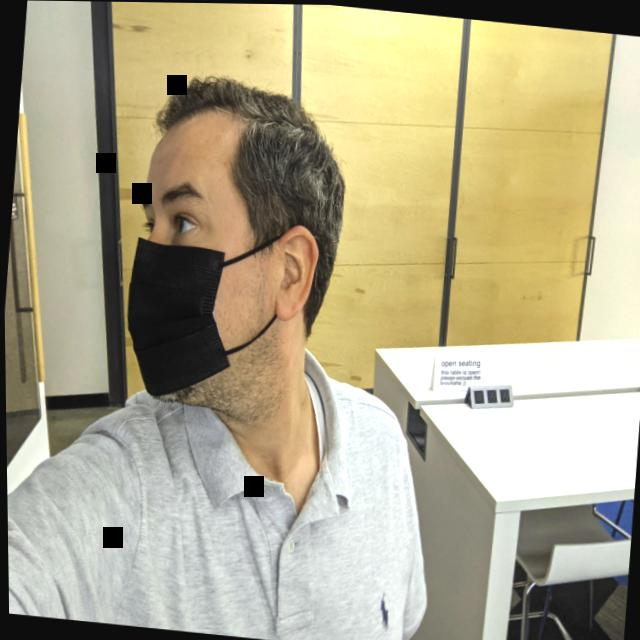Mask: (113, 120, 304, 413)
